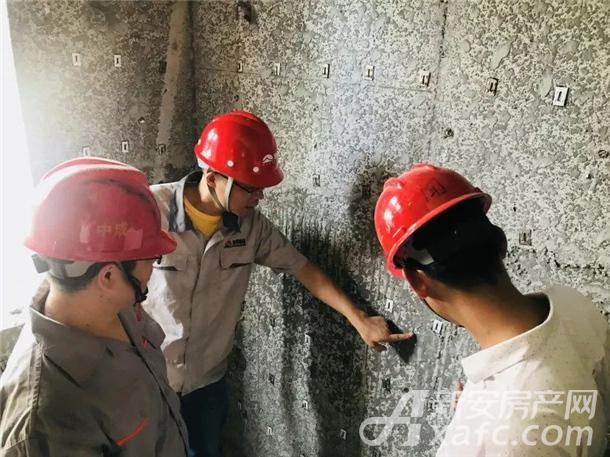red: (373, 162, 524, 331), (25, 158, 169, 316), (194, 112, 283, 219)
